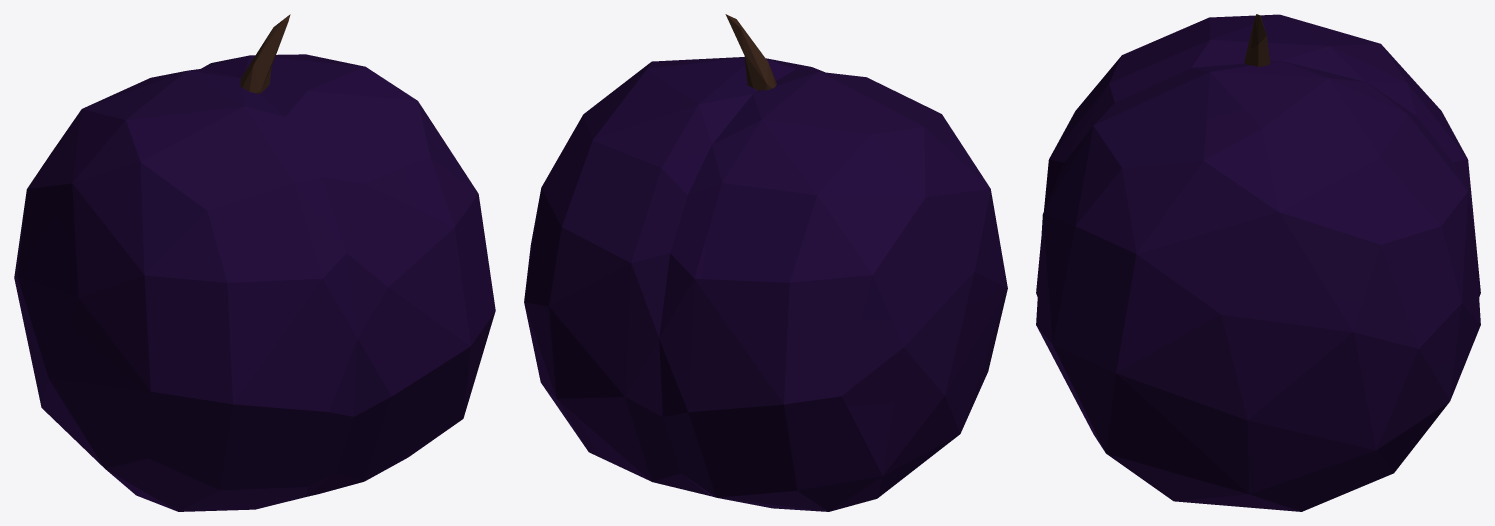
Rendered from Sliva.fbx.
The picture shows the model from 3 angles, left to right: view 1: azimuth 30°, elevation 25°; view 2: azimuth 150°, elevation 25°; view 3: azimuth 270°, elevation 25°; orthographic projection. The views are drawn at different scales.
Parts seen in each view (by area): view 1: Cube.018; view 2: Cube.018; view 3: Cube.018.
Boxes of the visible parts, x1,y1,x2,y2 form: Cube.018: [14, 14, 495, 511]; Cube.018: [524, 14, 1007, 511]; Cube.018: [1036, 14, 1480, 511].
Size of the model in its own units: 37.92 by 43.29 by 36.62.
